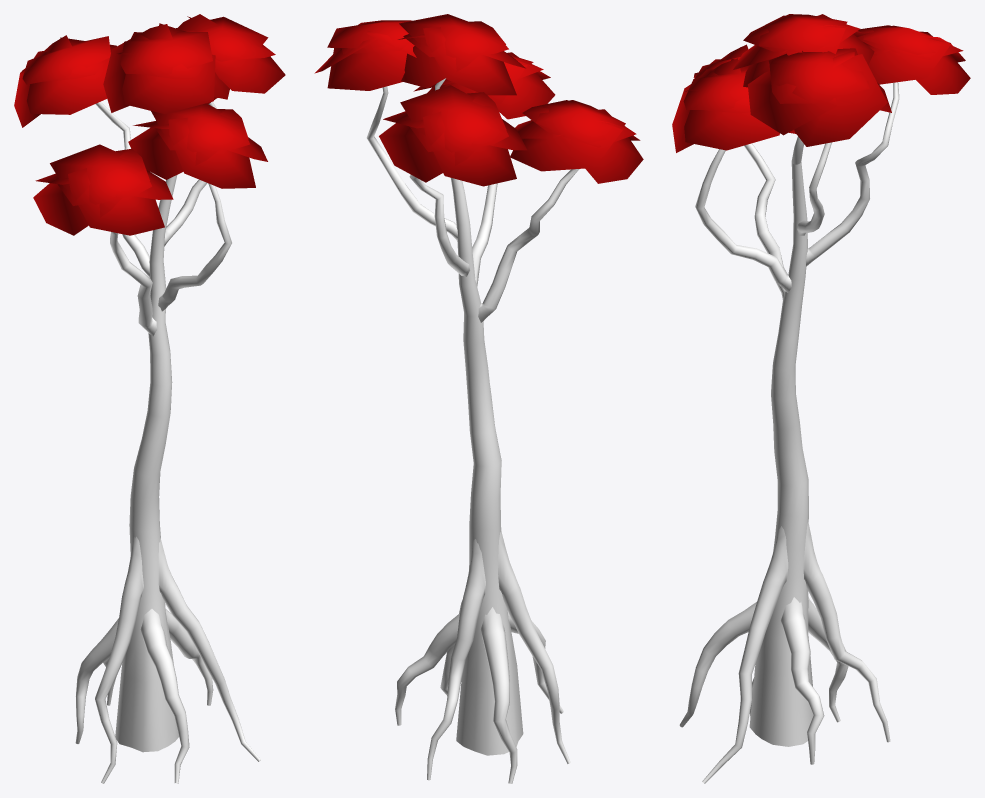
Rendered from SM_tree_09.FBX.
3 renders of one model, left to right at view 1: azimuth 30°, elevation 25°; view 2: azimuth 150°, elevation 25°; view 3: azimuth 270°, elevation 25°, orthographic. The views are drawn at different scales.
Visible parts, largest first — view 1: SM_tree_09_LOD0; view 2: SM_tree_09_LOD0; view 3: SM_tree_09_LOD0.
Part boxes in pixels (bbox=[...]): SM_tree_09_LOD0: bbox=[14, 14, 285, 783]; SM_tree_09_LOD0: bbox=[314, 14, 643, 783]; SM_tree_09_LOD0: bbox=[672, 14, 970, 783].
Size of what is drawn, in the model's own units: 370 by 348 by 964.
